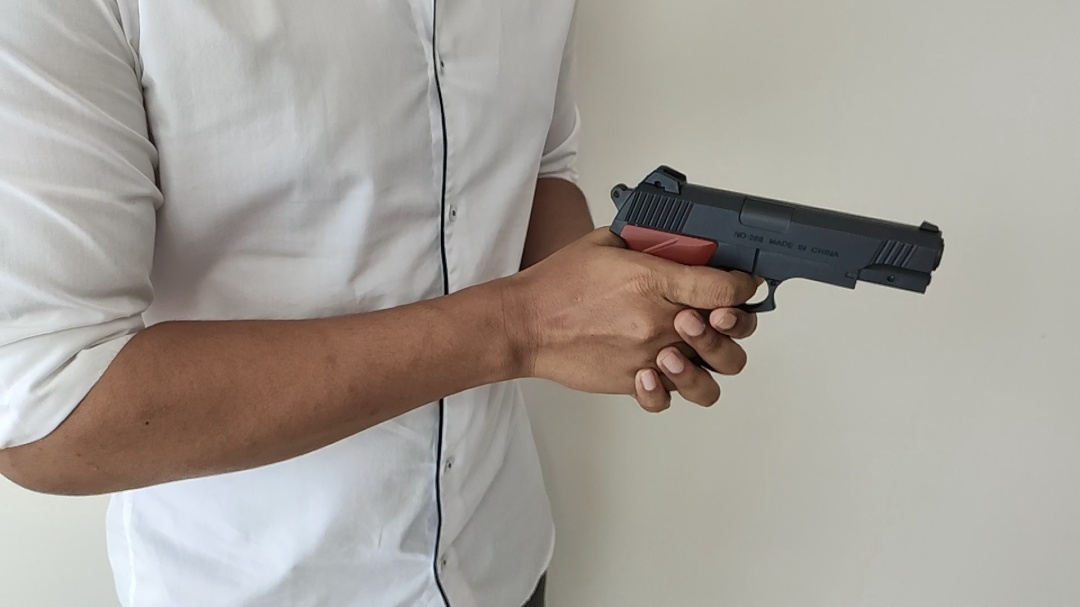gun: (608, 163, 945, 314)
